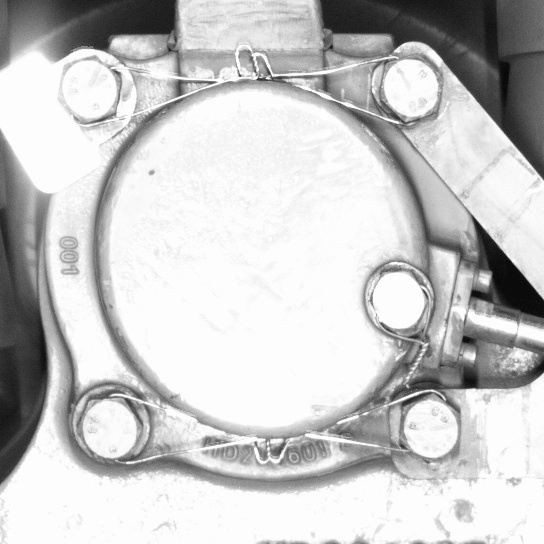IronWire: (64, 386, 472, 478), (52, 46, 452, 135)
Screw: (366, 43, 450, 137), (388, 385, 470, 475), (50, 48, 134, 133), (65, 384, 149, 469), (359, 259, 436, 337)
